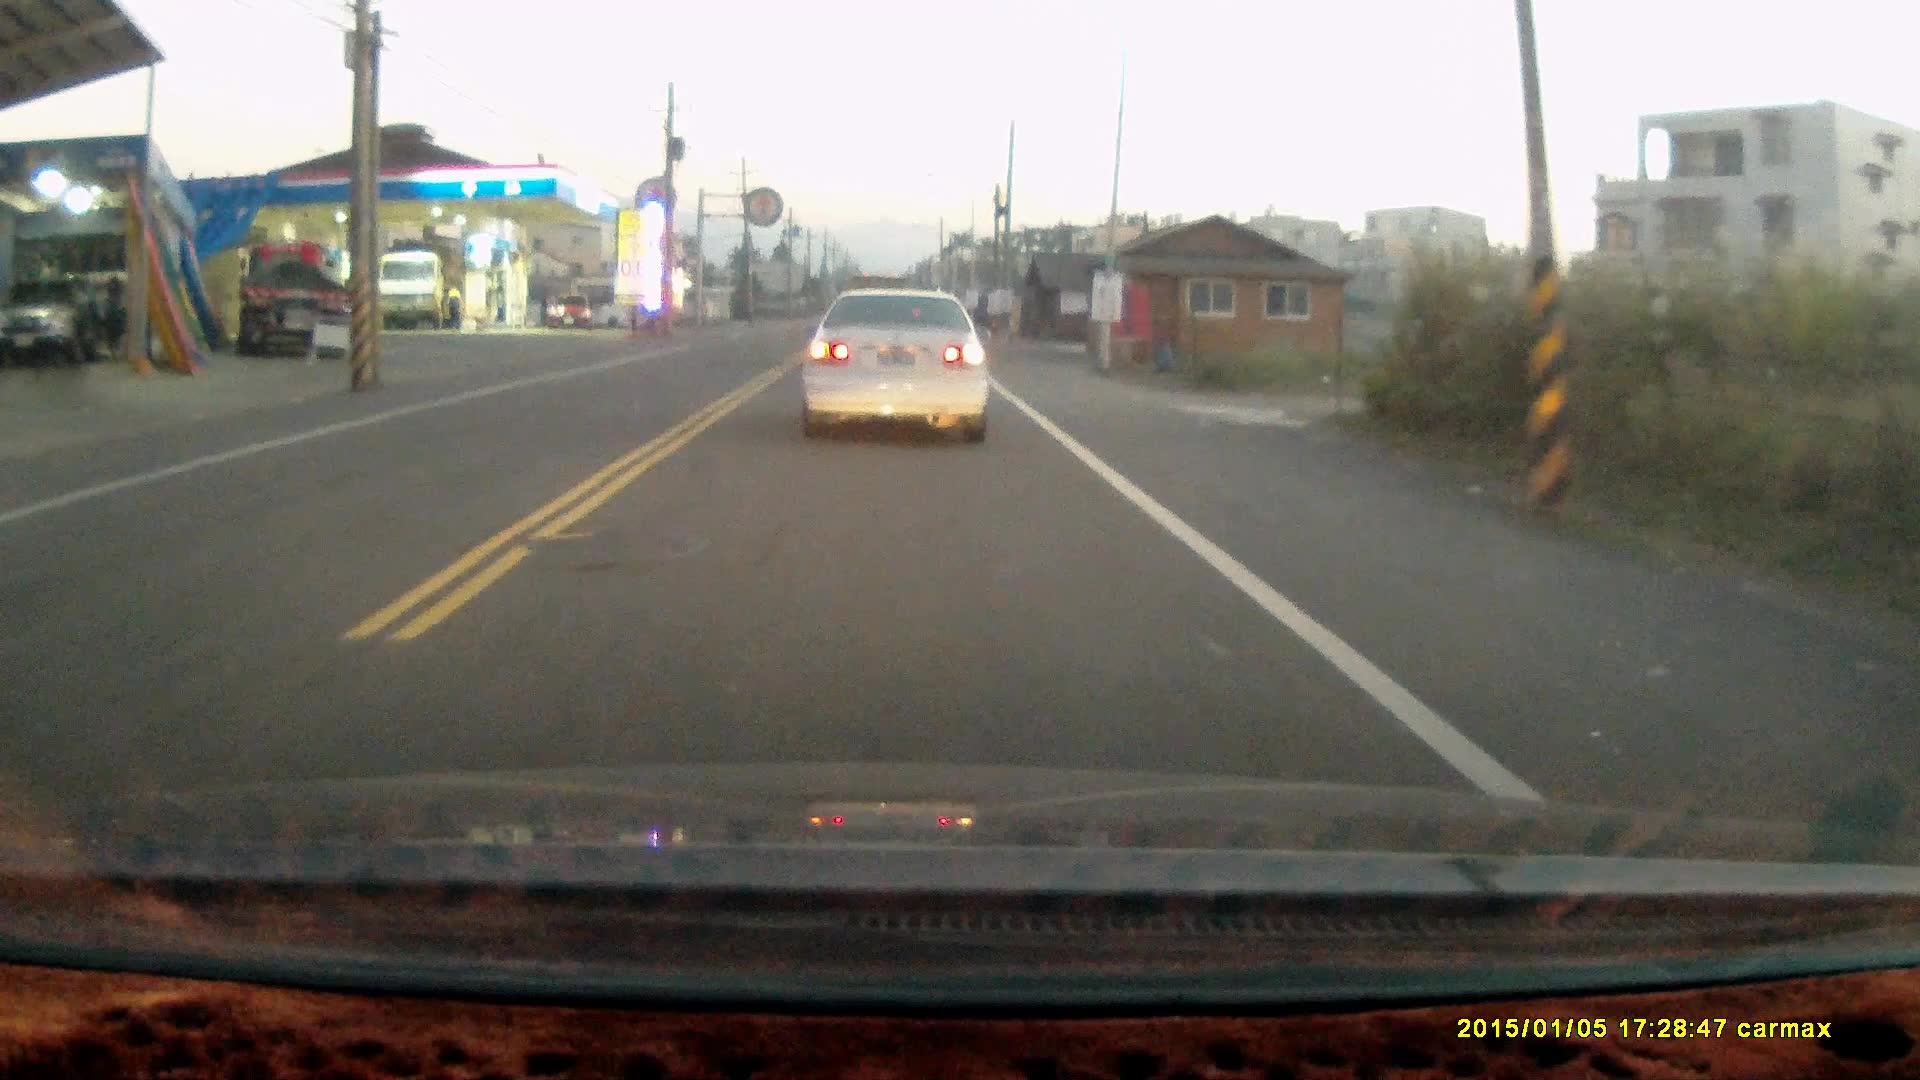pedestrian: (443, 282, 464, 330)
vehicle: (795, 282, 995, 449), (232, 242, 344, 357), (379, 253, 458, 337), (549, 296, 593, 333)
